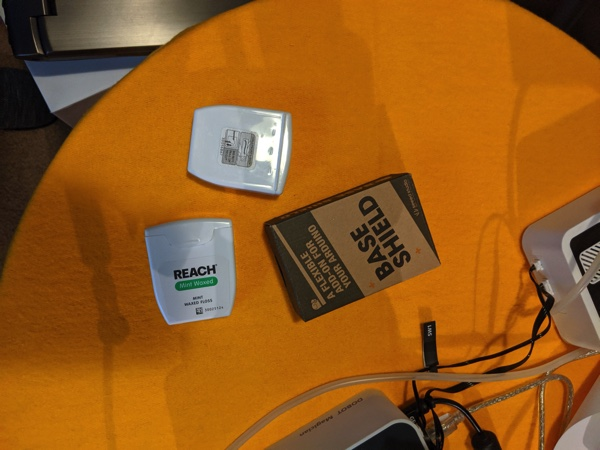cardboard: (254, 169, 448, 331)
plastic: (179, 94, 298, 205), (139, 212, 244, 335)
